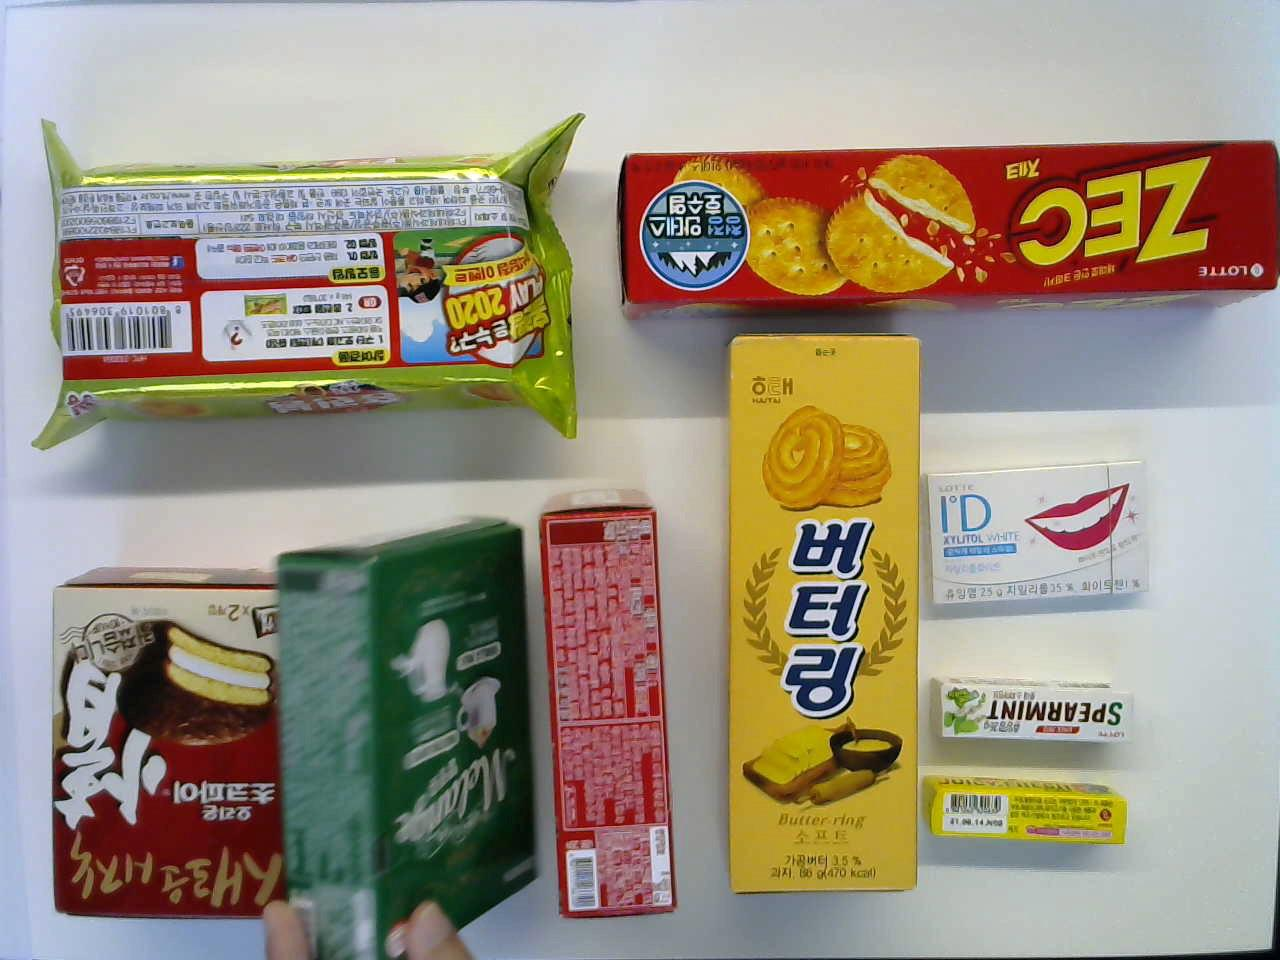ID_gum: (925, 451, 1152, 618)
buttering: (718, 329, 926, 893)
couque_white: (536, 485, 668, 927)
homerunball: (51, 144, 566, 418)
juicyfresh: (927, 776, 1131, 841)
spearmint: (931, 673, 1135, 740)
zec: (616, 135, 1276, 312)
